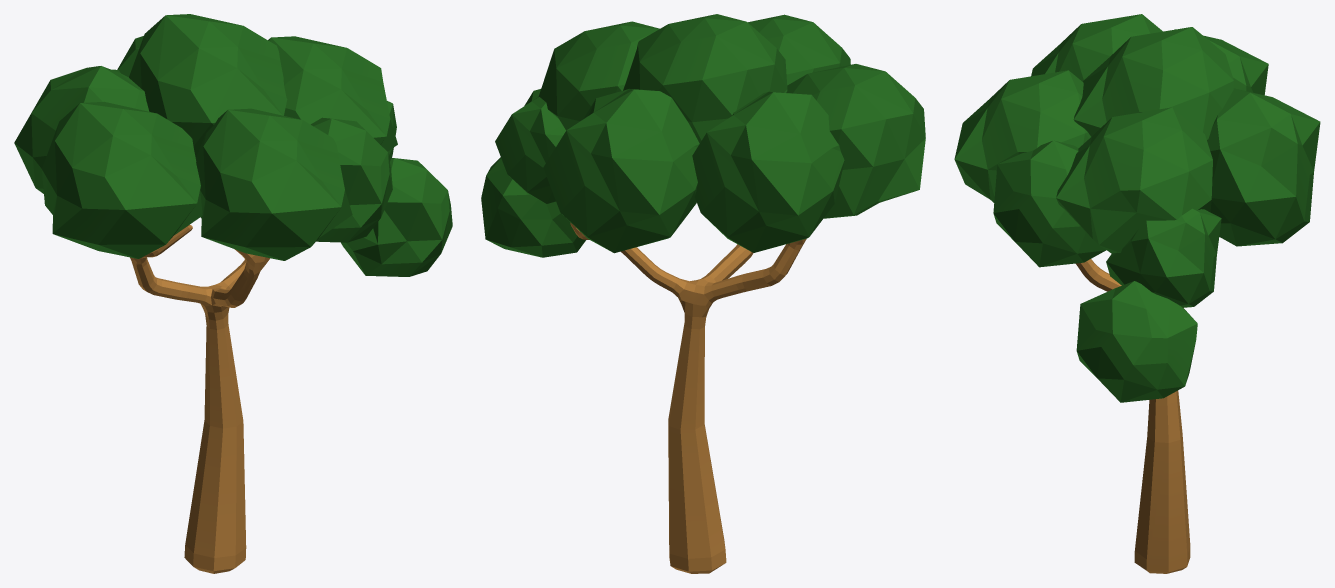
File: tree.096_lev4.glb
3 renders of one model, left to right at view 1: azimuth 30°, elevation 25°; view 2: azimuth 150°, elevation 25°; view 3: azimuth 270°, elevation 25°, orthographic. The views are drawn at different scales.
Visible parts, largest first — view 1: tree.096_lev4; view 2: tree.096_lev4; view 3: tree.096_lev4.
Part boxes in pixels (<box>): tree.096_lev4: <box>14,14,452,573</box>; tree.096_lev4: <box>481,14,925,573</box>; tree.096_lev4: <box>954,14,1320,573</box>.
Size of the model in its own units: 0.7911 by 1 by 0.6355.
